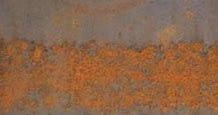Corrosion: (1, 37, 218, 115)
